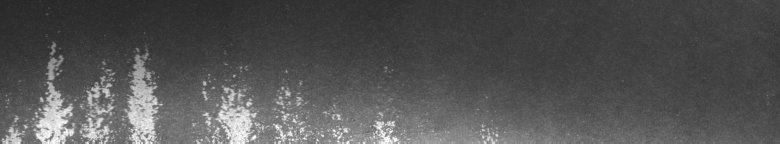kb: (6, 36, 398, 136)
